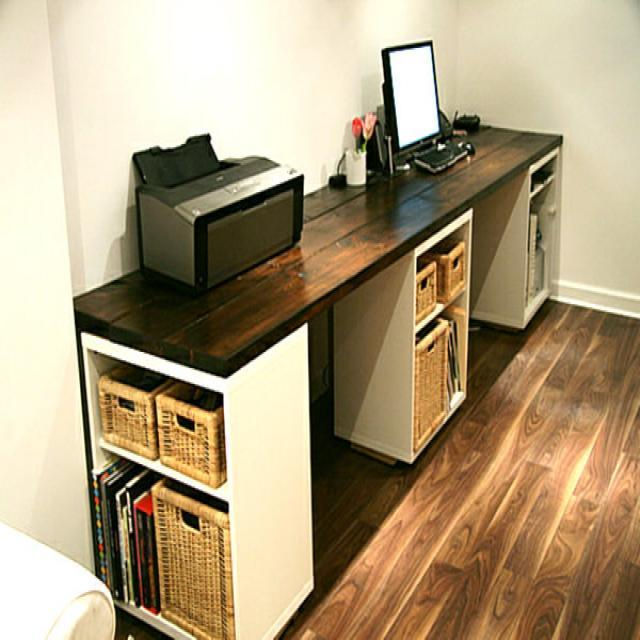table: (48, 91, 588, 418)
